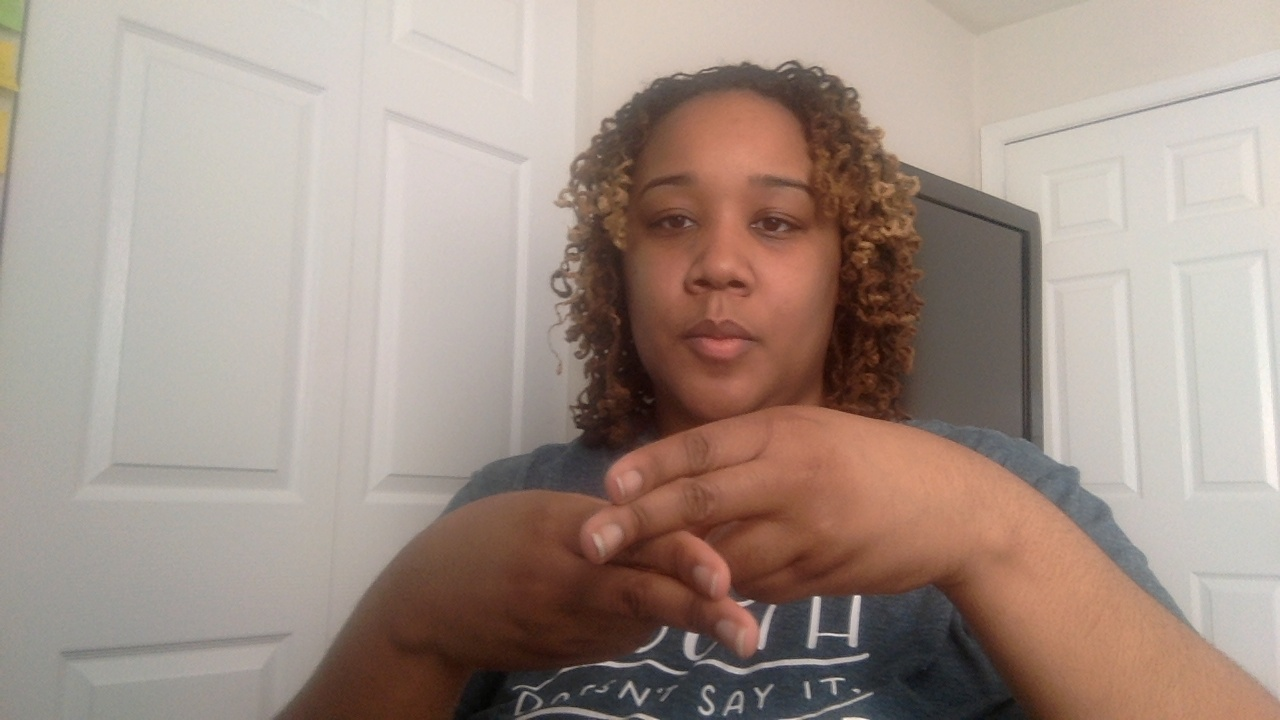name: (379, 390, 1027, 668)
